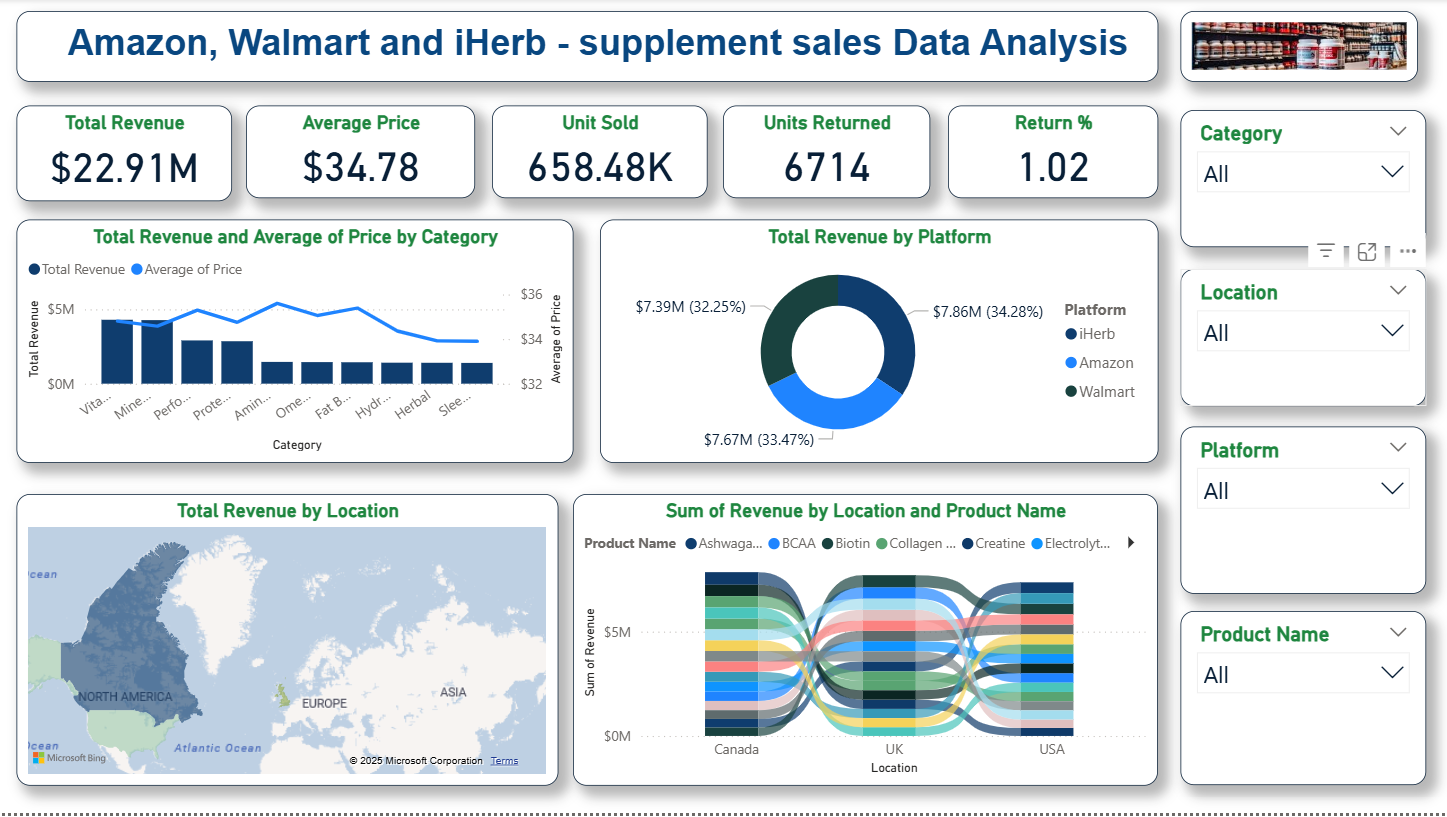

Layout of this report page (visuals, bound fields, positions):
{"tool":"powerbi","page":{"name":"Sales Analysis Dashboard","canvas":[1280,720],"ordinal":0},"visuals":[{"type":"textbox","box":[14.7,11,1010.1,62.4],"z":0},{"type":"image","box":[1044.3,11,210.3,62.4],"z":1000},{"type":"card","title":"Total Revenue","fields":{"Values":["Sum(Supplement_Sales_Weekly_Expande.Revenue)"]},"box":[14.7,94.2,190.8,84.4],"z":2000},{"type":"card","title":"Average Price","fields":{"Values":["Avg(Supplement_Sales_Weekly_Expande.Price)"]},"box":[217.7,94.2,203,81.9],"z":3000},{"type":"card","title":"Unit Sold","fields":{"Values":["Sum(Supplement_Sales_Weekly_Expande.Units Sold)"]},"box":[435.3,94.2,190.8,81.9],"z":4000},{"type":"card","title":"Units Returned","fields":{"Values":["Sum(Supplement_Sales_Weekly_Expande.Units Returned)"]},"box":[639.5,94.2,183.4,81.9],"z":5000},{"type":"card","title":"Return %","fields":{"Values":["Supplement_Sales_Weekly_Expande.Returns %"]},"box":[838.9,94.2,185.9,81.9],"z":6000},{"type":"slicer","fields":{"Values":["Supplement_Sales_Weekly_Expande.Category"]},"box":[1044.3,97.8,217.7,121.1],"z":7000},{"type":"slicer","fields":{"Values":["Supplement_Sales_Weekly_Expande.Location"]},"box":[1044.3,238.5,217.7,121.1],"z":8000},{"type":"slicer","fields":{"Values":["Supplement_Sales_Weekly_Expande.Platform"]},"box":[1044.3,377.9,217.7,148],"z":9000},{"type":"slicer","fields":{"Values":["Supplement_Sales_Weekly_Expande.Product Name"]},"box":[1044.3,541.7,217.7,154.1],"z":10000},{"type":"lineStackedColumnComboChart","fields":{"Y":["Sum(Supplement_Sales_Weekly_Expande.Revenue)"],"Category":["Supplement_Sales_Weekly_Expande.Category"],"Y2":["Avg(Supplement_Sales_Weekly_Expande.Price)"]},"box":[14.7,195.7,492.8,215.2],"z":11000},{"type":"donutChart","fields":{"Category":["Supplement_Sales_Weekly_Expande.Platform"],"Y":["Sum(Supplement_Sales_Weekly_Expande.Revenue)"]},"box":[530.7,195.7,494,215.2],"z":12000},{"type":"filledMap","fields":{"Category":["Supplement_Sales_Weekly_Expande.Location"]},"box":[14.7,437.8,479.4,258],"z":13000},{"type":"ribbonChart","fields":{"Category":["Supplement_Sales_Weekly_Expande.Location"],"Y":["Sum(Supplement_Sales_Weekly_Expande.Revenue)"],"Series":["Supplement_Sales_Weekly_Expande.Product Name"]},"box":[507.5,437.8,517.3,258],"z":14000}]}

Visuals, with their boxes in screenshot pixels (x1, y1, x2, y2), scaled from the page's 1280x720 canvas onto the 1447x817 screenshot:
textbox: bbox(17, 12, 1159, 83)
image: bbox(1181, 12, 1418, 83)
"Total Revenue" card: bbox(17, 107, 232, 203)
"Average Price" card: bbox(246, 107, 476, 200)
"Unit Sold" card: bbox(492, 107, 708, 200)
"Units Returned" card: bbox(723, 107, 930, 200)
"Return %" card: bbox(948, 107, 1159, 200)
slicer - Supplement_Sales_Weekly_Expande.Category: bbox(1181, 111, 1427, 248)
slicer - Supplement_Sales_Weekly_Expande.Location: bbox(1181, 271, 1427, 408)
slicer - Supplement_Sales_Weekly_Expande.Platform: bbox(1181, 429, 1427, 597)
slicer - Supplement_Sales_Weekly_Expande.Product Name: bbox(1181, 615, 1427, 790)
lineStackedColumnComboChart - Sum(Supplement_Sales_Weekly_Expande.Revenue) x Supplement_Sales_Weekly_Expande.Category: bbox(17, 222, 574, 466)
donutChart - Supplement_Sales_Weekly_Expande.Platform x Sum(Supplement_Sales_Weekly_Expande.Revenue): bbox(600, 222, 1158, 466)
filledMap - Supplement_Sales_Weekly_Expande.Location: bbox(17, 497, 559, 790)
ribbonChart - Supplement_Sales_Weekly_Expande.Location x Sum(Supplement_Sales_Weekly_Expande.Revenue): bbox(574, 497, 1159, 790)
